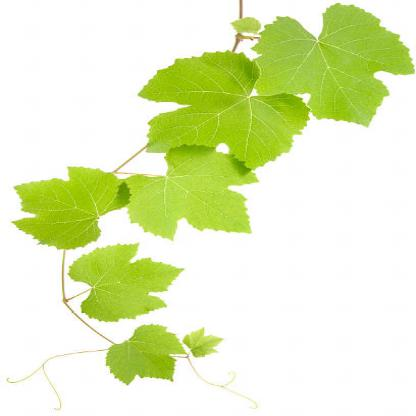grape leaf: (134, 52, 318, 167), (254, 1, 413, 127), (124, 140, 263, 246), (47, 243, 189, 324), (2, 165, 129, 253), (107, 321, 187, 388), (179, 321, 236, 360)
